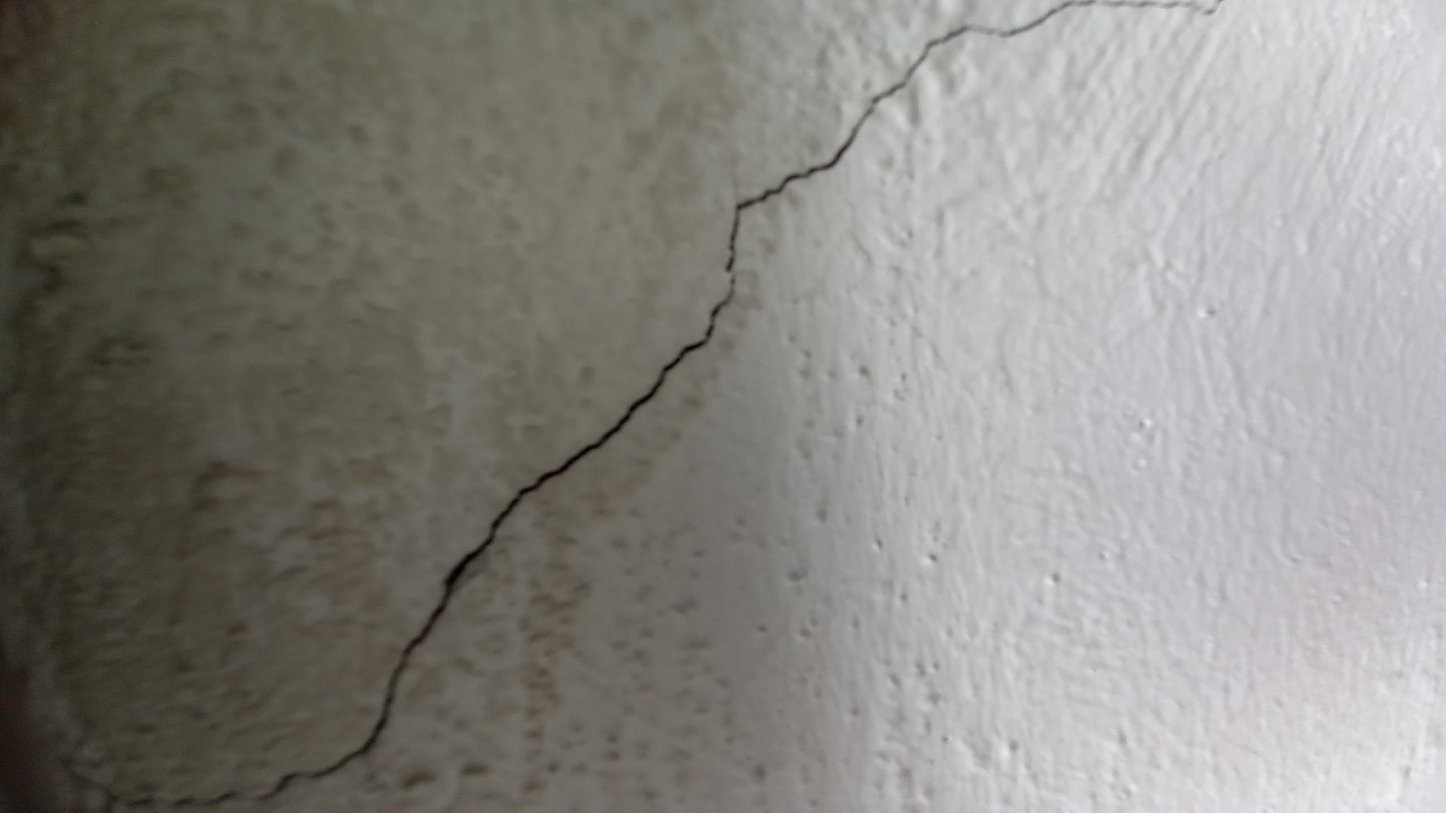crack: (206, 0, 1204, 812)
